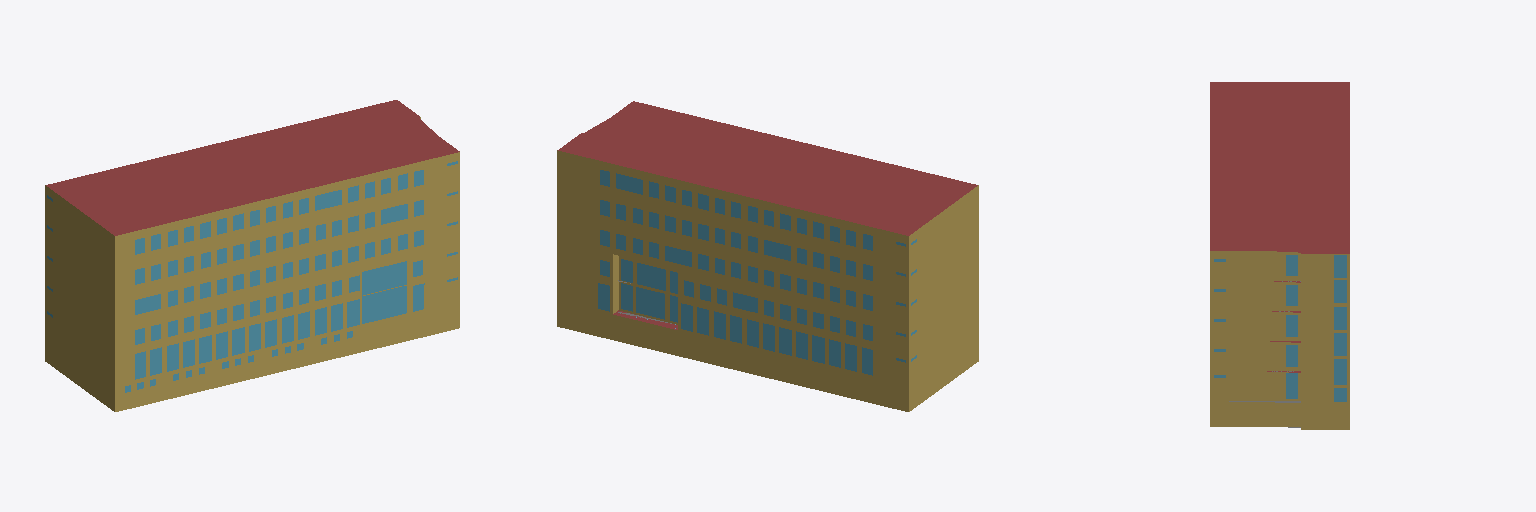
3 renders of one model, left to right at view 1: azimuth 30°, elevation 25°; view 2: azimuth 150°, elevation 25°; view 3: azimuth 270°, elevation 25°, orthographic.
Parts seen in each view (by area): view 1: Mesh1 Space___Space_160 Model, Mesh55 Space___Space_117 Model, Mesh33 Space___Space_127 Model, Mesh41 Space___Space_174 Model, Mesh22 Space___Space_101 Model, Mesh43 Space___Space_166 Model, Mesh37 Space___Space_161 Model, Mesh3 Space___Space_103 Model, Mesh29 Space___Space_162 Model, Mesh46 Space___Space_126 Model, Mesh47 Space___Space_167 Model, Mesh5 Space___Space_176 Model (+13 smaller); view 2: Mesh1 Space___Space_160 Model, Mesh41 Space___Space_174 Model, Mesh55 Space___Space_117 Model, Mesh33 Space___Space_127 Model, Mesh22 Space___Space_101 Model, Mesh43 Space___Space_166 Model, Mesh29 Space___Space_162 Model, Mesh3 Space___Space_103 Model, Mesh19 Space___Space_164 Model, Mesh10 Space___Space_170 Model, Mesh15 Space___Space_131 Model, Mesh34 Space___Space_129 Model (+15 smaller); view 3: Mesh1 Space___Space_160 Model, Mesh29 Space___Space_162 Model, Mesh3 Space___Space_103 Model, Mesh37 Space___Space_161 Model, Mesh5 Space___Space_176 Model, Mesh10 Space___Space_170 Model, Mesh11 Space___Space_120 Model, Mesh34 Space___Space_129 Model, Mesh6 Space___Space_169 Model, Mesh18 Space___Space_119 Model, Mesh27 Space___Space_128 Model, Mesh19 Space___Space_164 Model (+12 smaller).
Part boxes in pixels (x1,y1,x2,y2): Mesh1 Space___Space_160 Model: (71, 117, 392, 265); Mesh55 Space___Space_117 Model: (71, 229, 392, 313); Mesh33 Space___Space_127 Model: (71, 199, 392, 283); Mesh41 Space___Space_174 Model: (45, 336, 311, 411); Mesh22 Space___Space_101 Model: (71, 300, 345, 378); Mesh43 Space___Space_166 Model: (71, 270, 345, 344); Mesh37 Space___Space_161 Model: (370, 135, 459, 197); Mesh3 Space___Space_103 Model: (346, 273, 459, 329); Mesh29 Space___Space_162 Model: (324, 100, 436, 150); Mesh46 Space___Space_126 Model: (80, 241, 163, 295); Mesh47 Space___Space_167 Model: (80, 301, 163, 356); Mesh5 Space___Space_176 Model: (362, 303, 459, 351); Mesh1 Space___Space_160 Model: (631, 117, 978, 253); Mesh41 Space___Space_174 Model: (557, 301, 978, 411); Mesh55 Space___Space_117 Model: (631, 229, 943, 313); Mesh33 Space___Space_127 Model: (631, 199, 943, 283); Mesh22 Space___Space_101 Model: (678, 300, 943, 374); Mesh43 Space___Space_166 Model: (678, 270, 943, 344); Mesh29 Space___Space_162 Model: (557, 118, 676, 197); Mesh3 Space___Space_103 Model: (557, 271, 677, 324); Mesh19 Space___Space_164 Model: (860, 206, 933, 265); Mesh10 Space___Space_170 Model: (557, 241, 634, 283); Mesh15 Space___Space_131 Model: (860, 248, 933, 295); Mesh34 Space___Space_129 Model: (557, 181, 630, 227); Mesh1 Space___Space_160 Model: (1210, 82, 1349, 217); Mesh29 Space___Space_162 Model: (1256, 218, 1349, 283); Mesh3 Space___Space_103 Model: (1210, 371, 1349, 403); Mesh37 Space___Space_161 Model: (1210, 218, 1255, 280); Mesh5 Space___Space_176 Model: (1210, 401, 1279, 426); Mesh10 Space___Space_170 Model: (1256, 341, 1349, 373); Mesh11 Space___Space_120 Model: (1256, 311, 1349, 343); Mesh34 Space___Space_129 Model: (1256, 281, 1349, 313); Mesh6 Space___Space_169 Model: (1210, 341, 1255, 370); Mesh18 Space___Space_119 Model: (1210, 311, 1255, 340); Mesh27 Space___Space_128 Model: (1210, 281, 1255, 310); Mesh19 Space___Space_164 Model: (1299, 82, 1349, 105).
Size of the model in its own units: 51300 by 24600 by 17600.